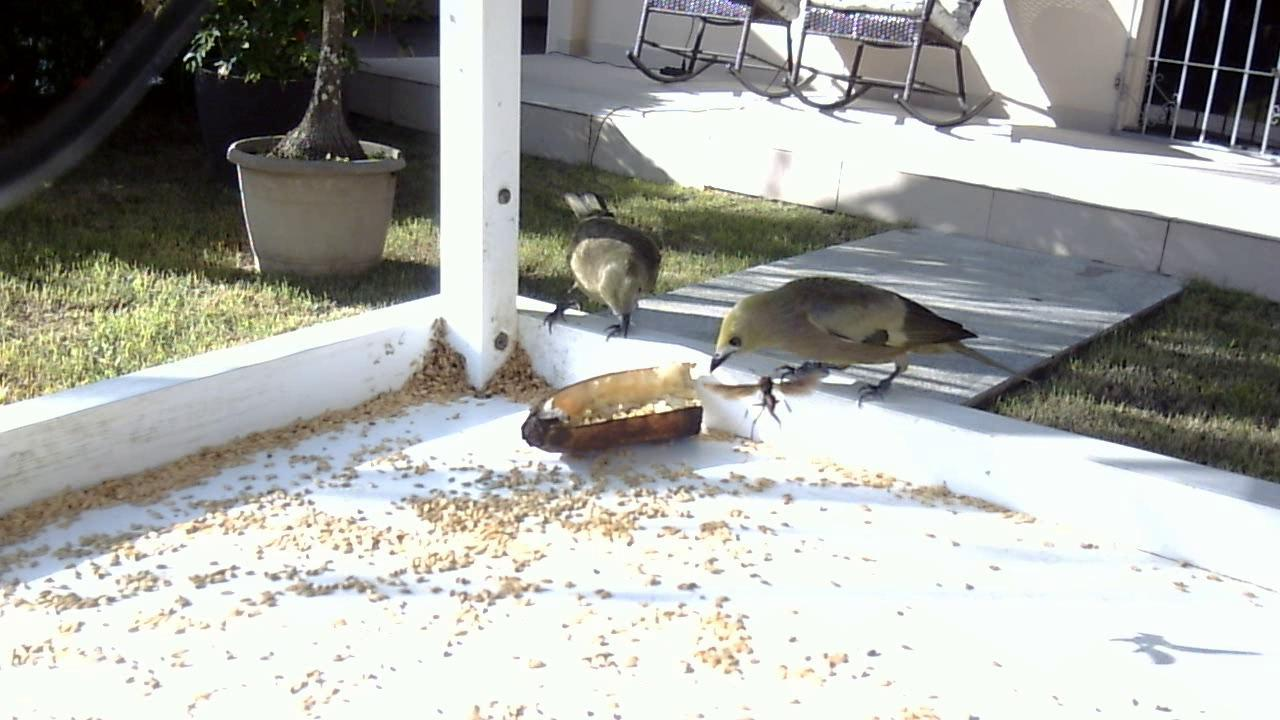sanhaco_do_coqueiro: (695, 266, 989, 436), (523, 182, 673, 352)
